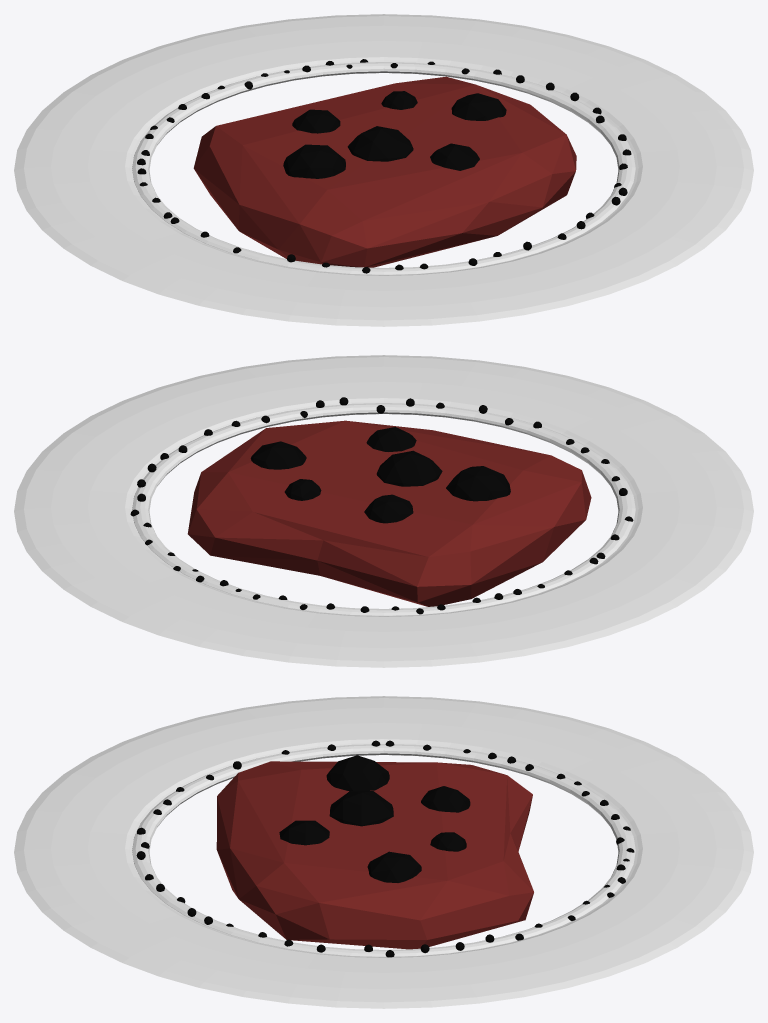
Rendered from MovingPlatorm1.fbx.
3 renders of one model, top to bottom at view 1: azimuth 30°, elevation 25°; view 2: azimuth 150°, elevation 25°; view 3: azimuth 270°, elevation 25°, orthographic.
Visible parts, largest first — view 1: Torus.001, Cube, Torus.002, Icosphere.001, Icosphere, Icosphere.003, Icosphere.023, Icosphere.002, Icosphere.004, Icosphere.005; view 2: Torus.001, Cube, Torus.002, Icosphere.001, Icosphere, Icosphere.023, Icosphere.003, Icosphere.004, Icosphere.002, Icosphere.005; view 3: Torus.001, Cube, Torus.002, Icosphere.001, Icosphere, Icosphere.003, Icosphere.023, Icosphere.002, Icosphere.004, Icosphere.005.
Part boxes in pixels (bbox=[...]): Torus.001: bbox=[14, 14, 753, 326]; Cube: bbox=[193, 76, 576, 267]; Torus.002: bbox=[132, 62, 635, 274]; Icosphere.001: bbox=[347, 126, 413, 161]; Icosphere: bbox=[283, 144, 345, 178]; Icosphere.003: bbox=[451, 93, 506, 120]; Icosphere.023: bbox=[325, 59, 631, 256]; Icosphere.002: bbox=[430, 143, 479, 170]; Icosphere.004: bbox=[292, 109, 340, 133]; Icosphere.005: bbox=[381, 91, 417, 109]; Torus.001: bbox=[14, 355, 753, 667]; Cube: bbox=[187, 420, 591, 606]; Torus.002: bbox=[132, 403, 635, 615]; Icosphere.001: bbox=[376, 450, 442, 486]; Icosphere: bbox=[446, 466, 510, 501]; Icosphere.023: bbox=[130, 397, 513, 582]; Icosphere.003: bbox=[250, 441, 306, 469]; Icosphere.004: bbox=[364, 494, 413, 523]; Icosphere.002: bbox=[366, 427, 416, 451]; Icosphere.005: bbox=[284, 479, 321, 500]; Torus.001: bbox=[14, 696, 753, 1008]; Cube: bbox=[216, 761, 533, 949]; Torus.002: bbox=[132, 744, 635, 956]; Icosphere.001: bbox=[329, 791, 393, 826]; Icosphere: bbox=[326, 755, 389, 791]; Icosphere.003: bbox=[367, 851, 421, 882]; Icosphere.023: bbox=[136, 842, 625, 957]; Icosphere.002: bbox=[279, 820, 329, 845]; Icosphere.004: bbox=[421, 786, 470, 812]; Icosphere.005: bbox=[430, 832, 466, 851].
Size of the model in its own units: 842 by 110 by 842.
